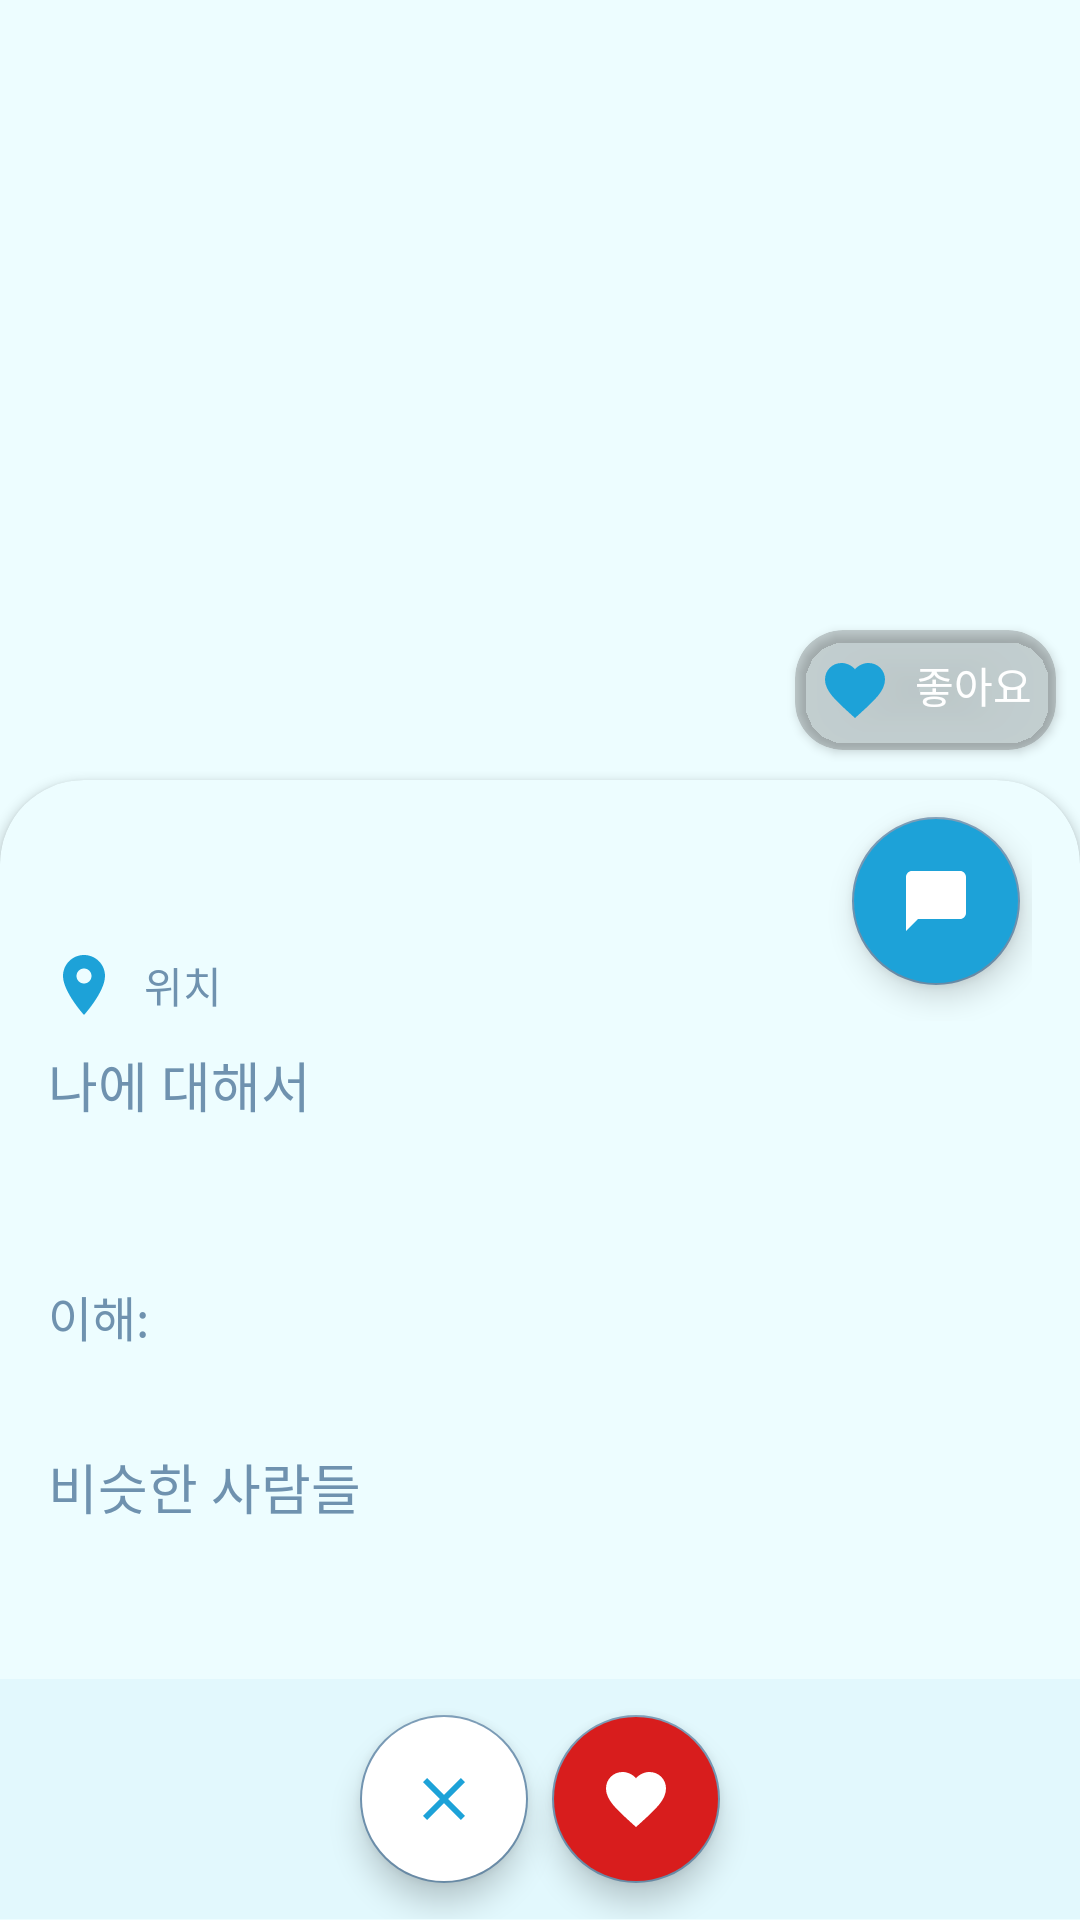

Icons on this 1080 x 1920 Android screen, each with the point to tap as (x=x, y=y):
chat bubble: (x=936, y=901)
close: (x=444, y=1799)
fav: (x=855, y=690), (x=636, y=1799)
